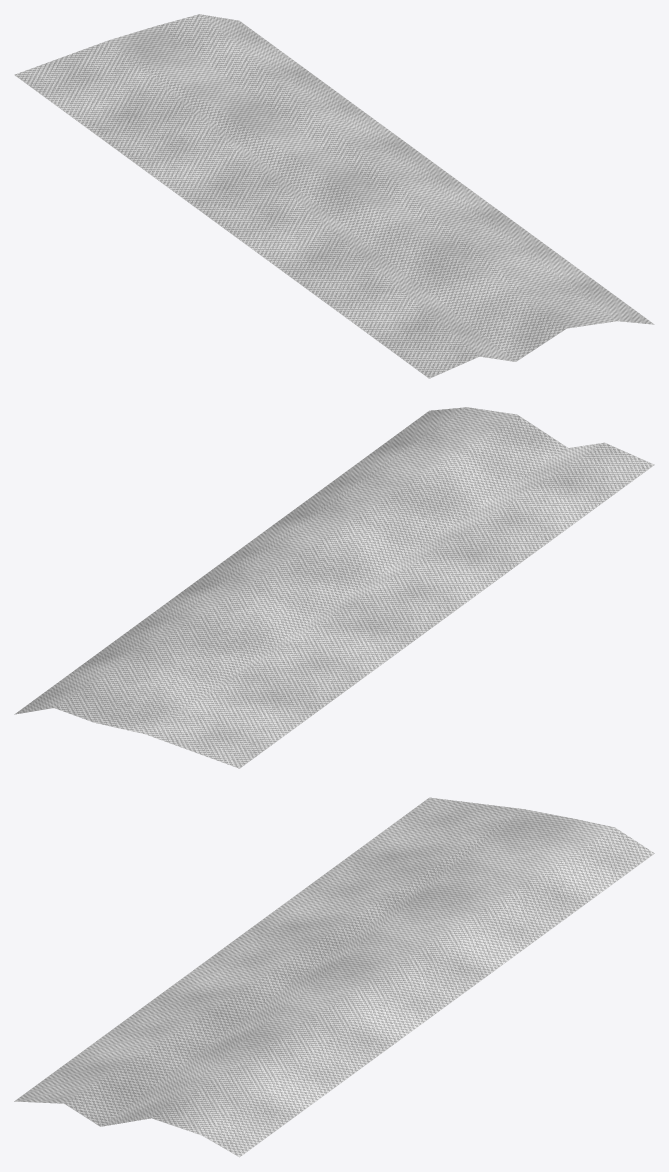
File: M_Home_Garden_Cloth_Lap.fbx
3 renders of one model, top to bottom at view 1: azimuth 30°, elevation 25°; view 2: azimuth 150°, elevation 25°; view 3: azimuth 330°, elevation 25°, orthographic.
Parts seen in each view (by area): view 1: M_Home_Garden_Cloth_Lap; view 2: M_Home_Garden_Cloth_Lap; view 3: M_Home_Garden_Cloth_Lap.
Boxes of the visible parts, x1=… form: M_Home_Garden_Cloth_Lap: x1=14, y1=14, x2=654, y2=378; M_Home_Garden_Cloth_Lap: x1=14, y1=407, x2=654, y2=768; M_Home_Garden_Cloth_Lap: x1=14, y1=797, x2=654, y2=1157.
Size of the model in its own units: 50.98 by 4.53 by 163.
